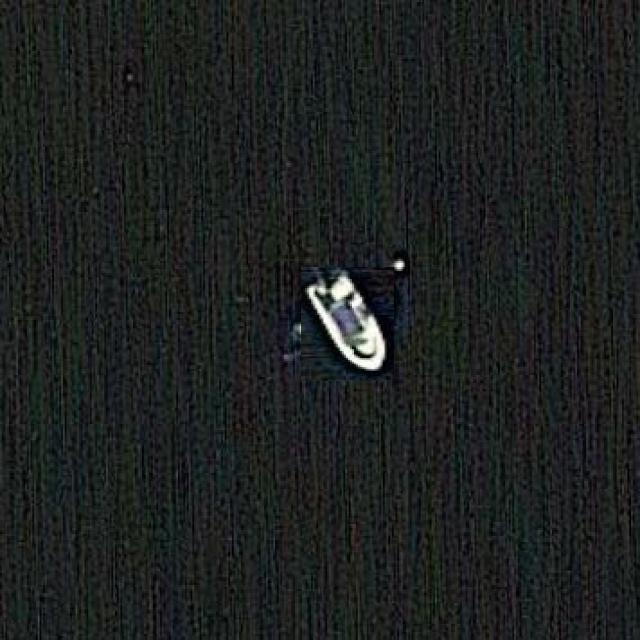boat: (295, 272, 399, 376)
